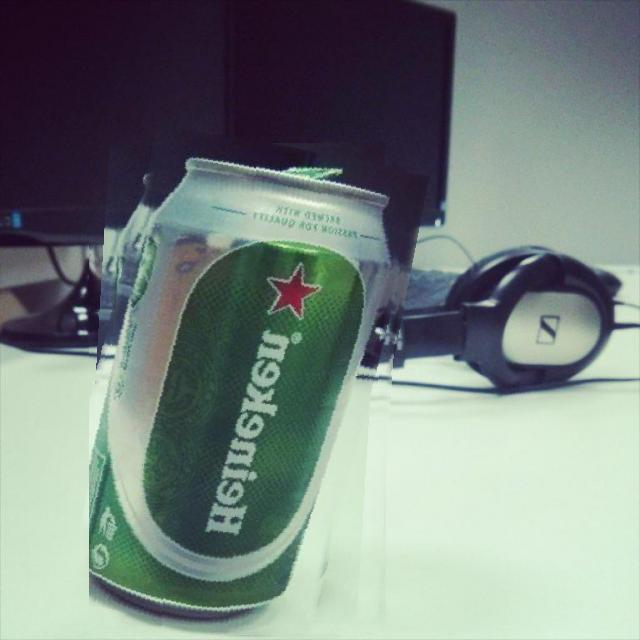recyclable: (89, 135, 407, 638)
